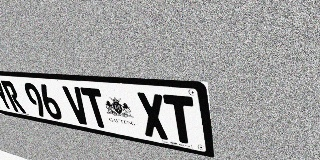6: (35, 83, 64, 121)
9: (22, 82, 49, 118)
R: (0, 80, 26, 114)
T: (163, 94, 198, 146), (80, 87, 111, 129)
V: (62, 86, 92, 126)
X: (136, 92, 170, 140)
Y: (0, 79, 15, 111)
